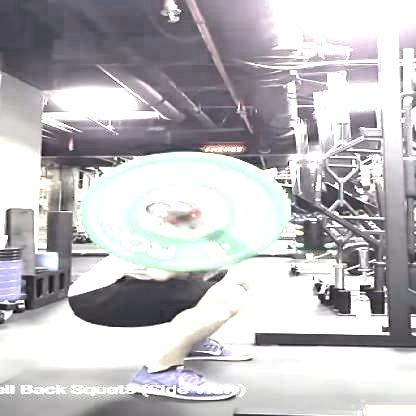Barbell: (144, 199, 186, 219)
